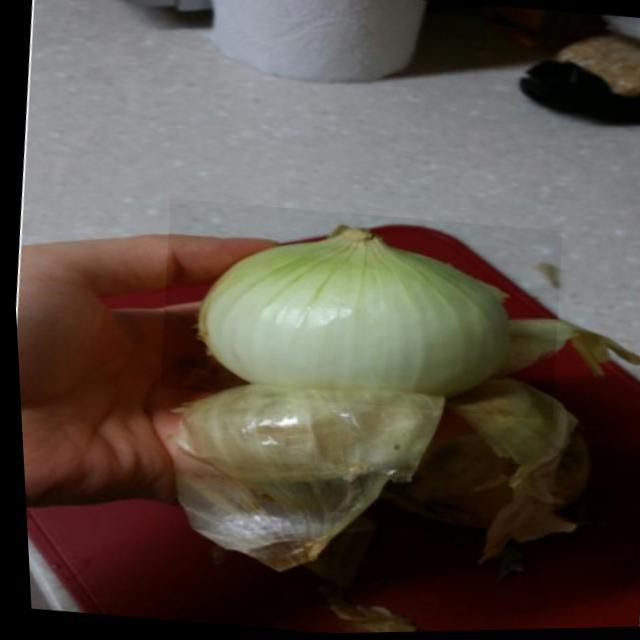Onion: (148, 192, 567, 430)
